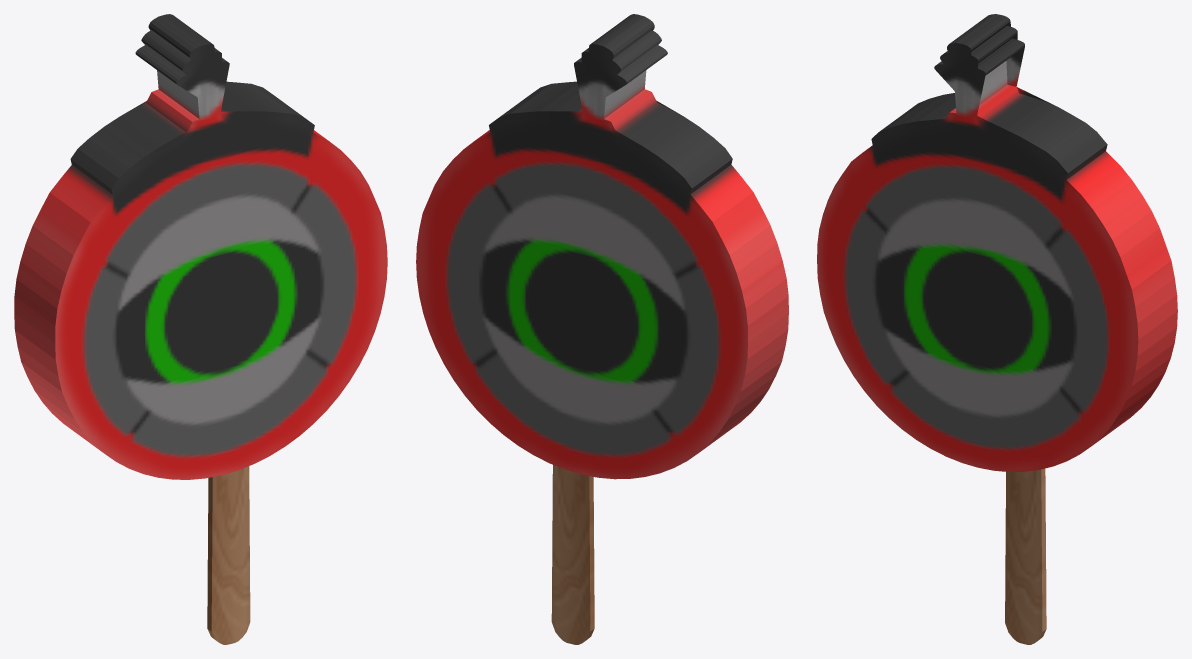
The model's file is sentinel.fbx.
3 views of the same model, side by side, from view 1: azimuth 30°, elevation 25°; view 2: azimuth 150°, elevation 25°; view 3: azimuth 330°, elevation 25° (orthographic). The views are drawn at different scales.
Parts seen in each view (by area): view 1: sentinel; view 2: sentinel; view 3: sentinel.
Part boxes in pixels (<box>): sentinel: <box>14,14,387,644</box>; sentinel: <box>416,14,788,644</box>; sentinel: <box>817,14,1177,644</box>.
Bounding box in the file's own units: 117 × 210 × 25.
1 material, 1 textured.
